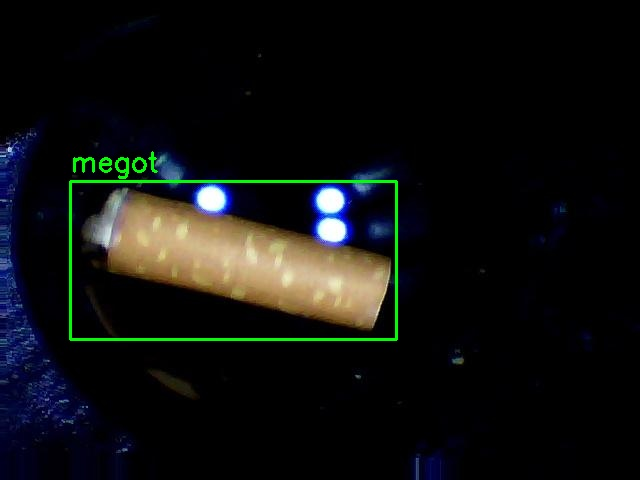megot: (70, 181, 396, 339)
